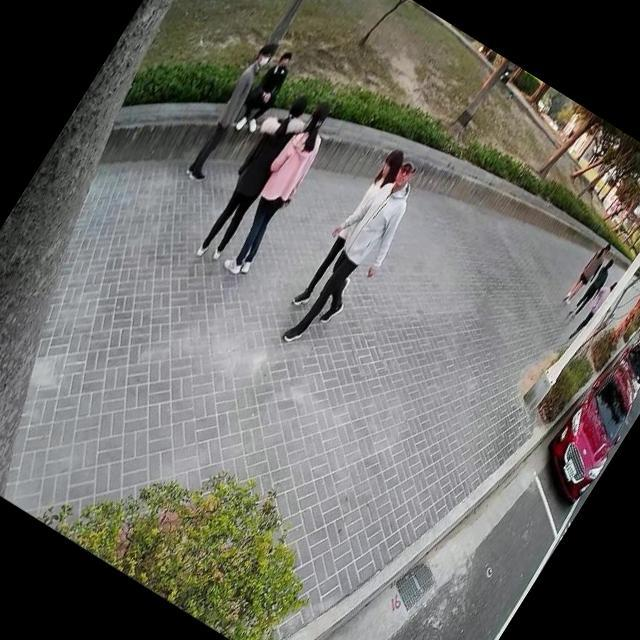person: (266, 133, 440, 363), (284, 140, 432, 332), (208, 88, 350, 284), (180, 77, 320, 270), (175, 32, 287, 188), (225, 38, 305, 140), (558, 234, 616, 312), (562, 248, 620, 326), (564, 271, 618, 347)
